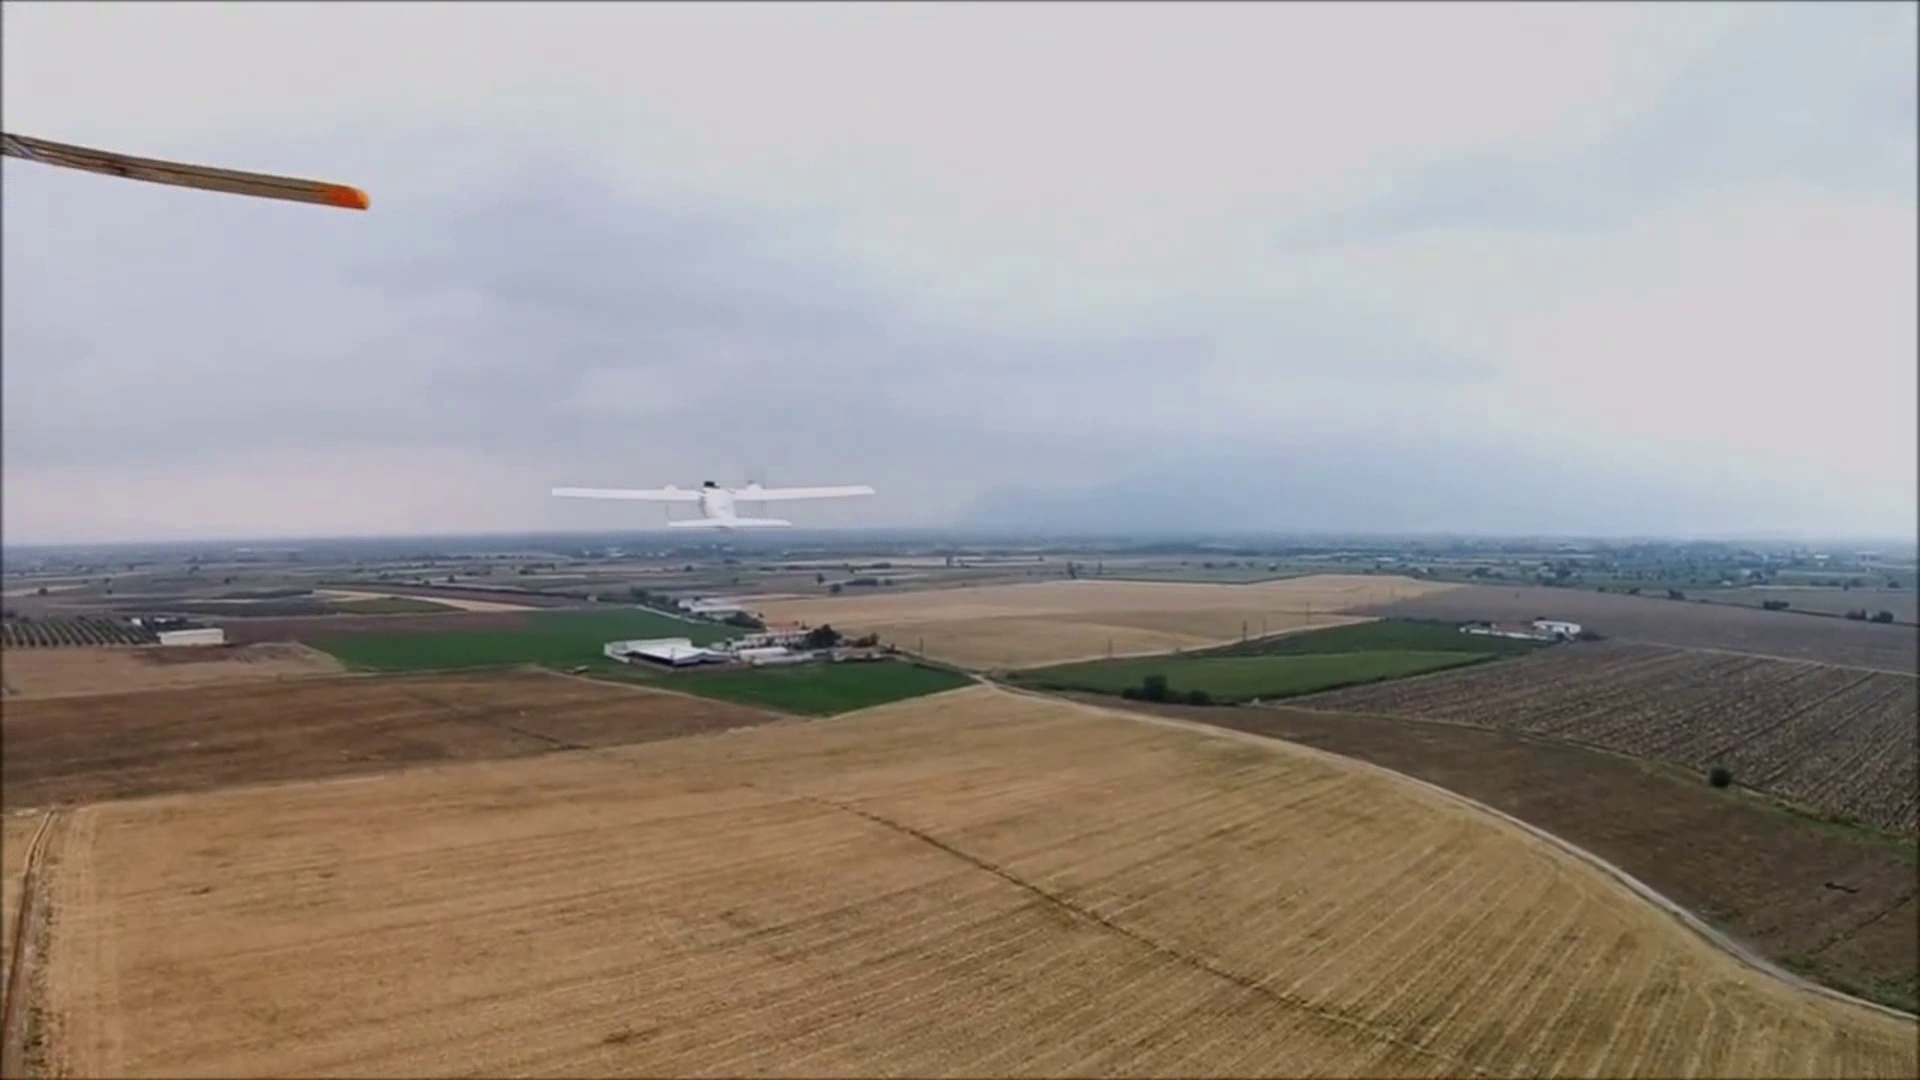airplane: (551, 471, 877, 531)
